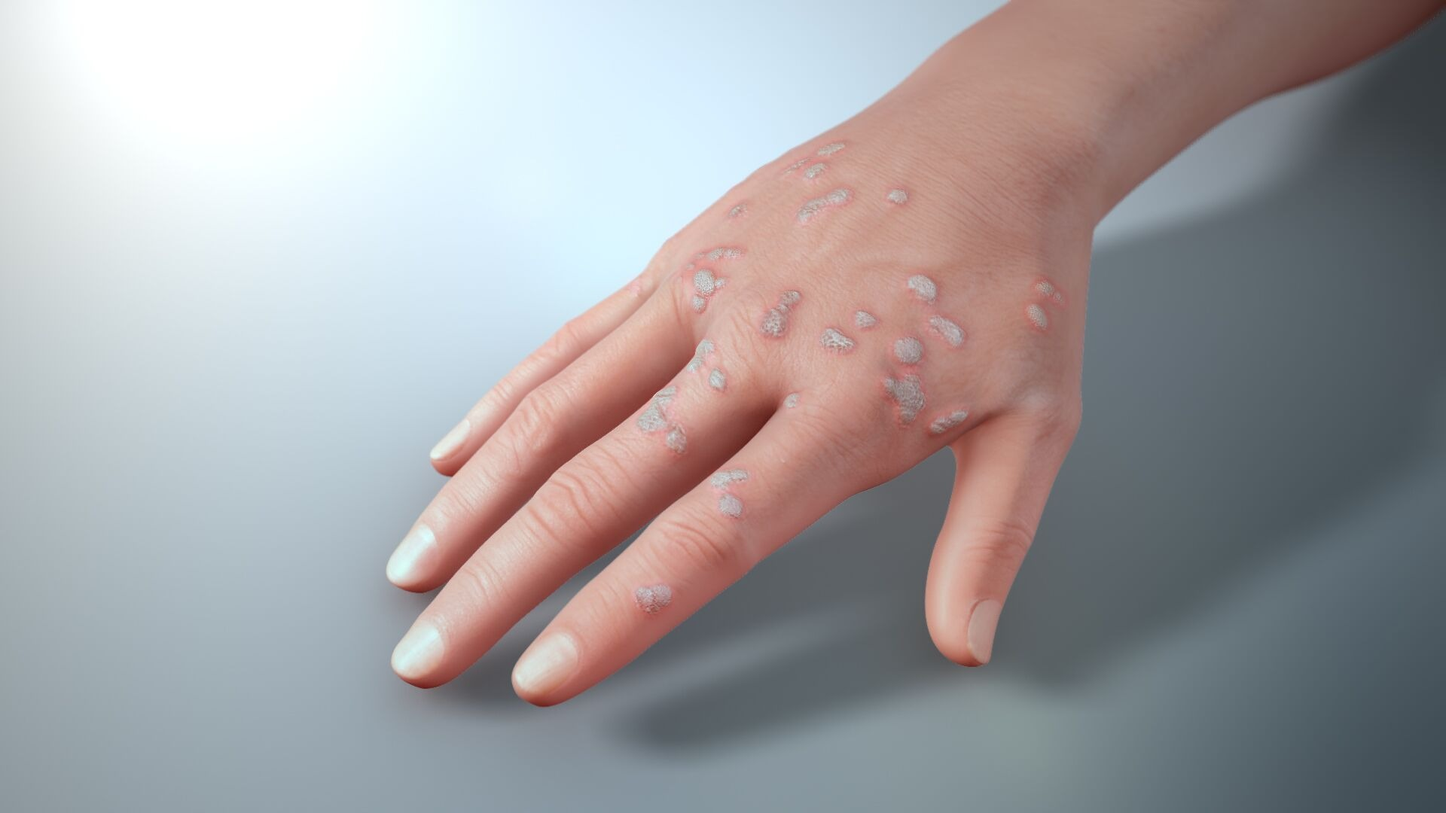Warts: (614, 122, 1088, 655)
